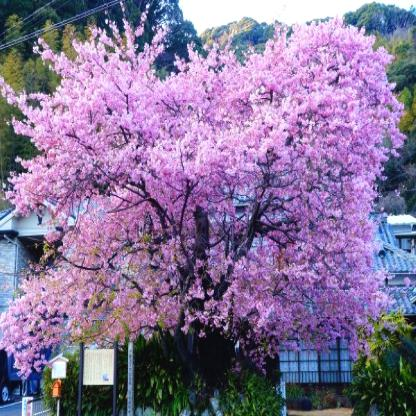KawazuSakura: (1, 1, 409, 390)
